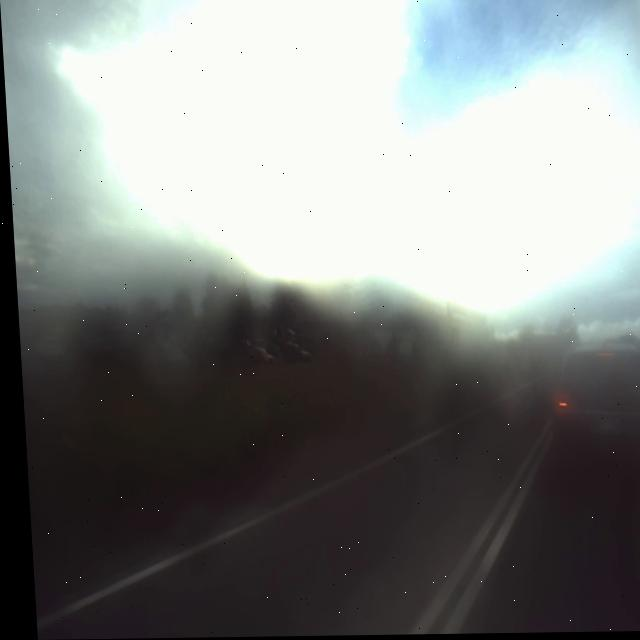car: (543, 333, 640, 516)
